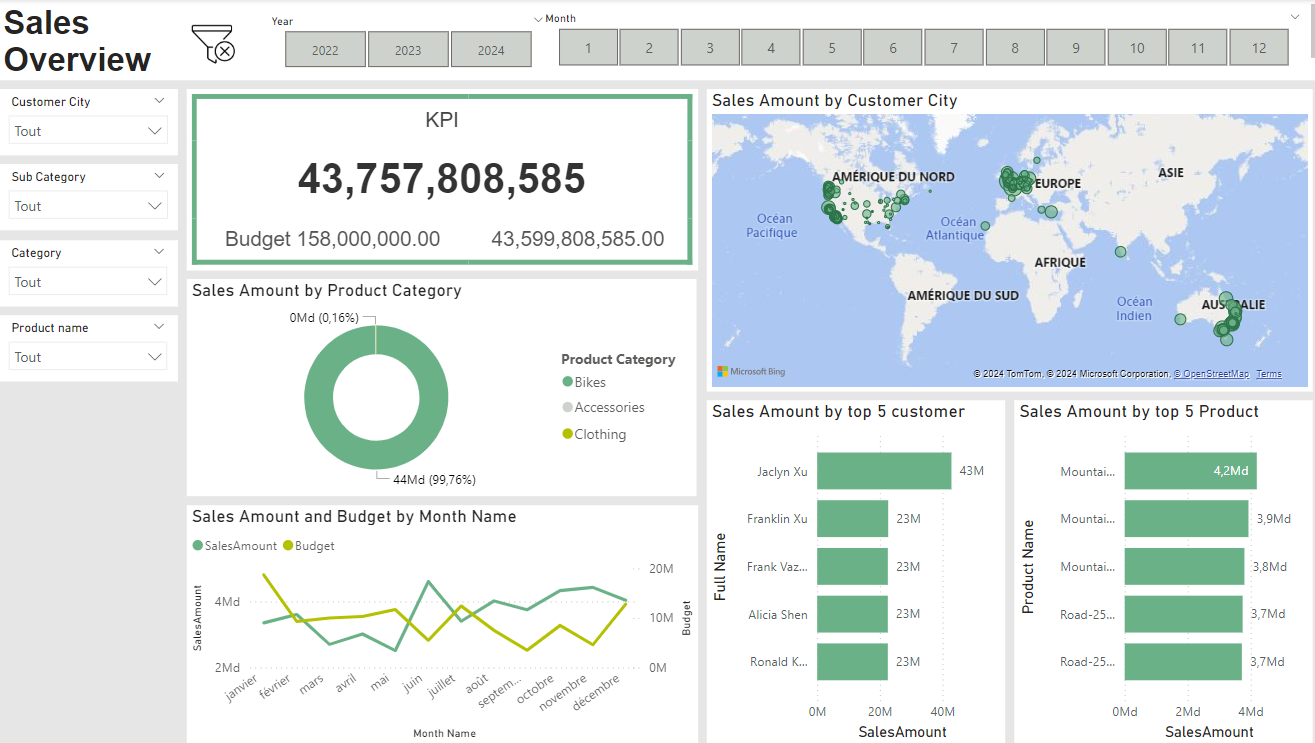

The dashboard page shown, as its layout file describes it:
{"tool":"powerbi","page":{"name":"Sales","canvas":[1280,720],"ordinal":0},"visuals":[{"type":"textbox","box":[0,0,1280.3,78.2],"z":0},{"type":"slicer","fields":{"Values":["DimCustomer.Customer City"]},"box":[0,86.9,173.7,63.9],"z":1000},{"type":"slicer","fields":{"Values":["DimProducts (2).Sub Category"]},"box":[0,159.3,173.7,63.9],"z":2000},{"type":"slicer","fields":{"Values":["DimProducts (2).Product Category"]},"box":[0,232.3,173.6,63.8],"z":3000},{"type":"slicer","fields":{"Values":["DimProducts (2).Product Name"]},"box":[0,305.1,173.6,63.8],"z":4000},{"type":"slicer","fields":{"Values":["DimDate.Year"]},"box":[251.1,9.6,288.2,63.1],"z":5000},{"type":"slicer","fields":{"Values":["DimDate.Month"]},"box":[515.7,7.7,754.4,63.8],"z":6000},{"type":"BBED0A4D4D8D44CE93CF2DAFADEE466C","title":"Sales, budget et Sales - Budget","fields":{"target2":["#Measures.Sales - Budget"],"actual":["#Measures.SalesAmount"],"target1":["#Measures.Budget"]},"box":[182.2,86.9,493.4,174.9],"z":7000},{"type":"donutChart","title":"Sales Amount by Product Category","fields":{"Category":["DimProducts (2).Product Category"],"Y":["#Measures.SalesAmount"]},"box":[182.2,270.2,492.2,209.9],"z":8000},{"type":"lineChart","title":"Sales Amount and Budget by Month Name","fields":{"Y":["#Measures.SalesAmount"],"Y2":["#Measures.Budget"],"Category":["DimDate.Month Name"]},"box":[182.2,488.4,493.4,231.6],"z":9000},{"type":"barChart","title":"Sales Amount by top 5 customer","fields":{"Y":["#Measures.SalesAmount"],"Category":["DimCustomer.Full Name"]},"box":[684.1,387,288.3,333],"z":10000},{"type":"barChart","title":"Sales Amount by top 5 Product ","fields":{"Category":["DimProducts (2).Product Name"],"Y":["#Measures.SalesAmount"]},"box":[980.8,387,288.3,333],"z":11000},{"type":"map","title":"Sales Amount by Customer City","fields":{"Category":["DimCustomer.Customer City"],"Size":["#Measures.SalesAmount"]},"box":[684.1,86.9,585.1,292],"z":12000},{"type":"image","box":[182.3,8.3,51.5,71],"z":13000}]}

Visuals, with their boxes in screenshot pixels (x1, y1, x2, y2), scaled from the page's 1280x720 canvas onto the 1315x743 screenshot:
textbox: 0, 0, 1314, 81
slicer - DimCustomer.Customer City: 0, 90, 178, 156
slicer - DimProducts (2).Sub Category: 0, 164, 178, 230
slicer - DimProducts (2).Product Category: 0, 240, 178, 306
slicer - DimProducts (2).Product Name: 0, 315, 178, 381
slicer - DimDate.Year: 258, 10, 554, 75
slicer - DimDate.Month: 530, 8, 1305, 74
"Sales, budget et Sales - Budget" BBED0A4D4D8D44CE93CF2DAFADEE466C: 187, 90, 694, 270
"Sales Amount by Product Category" donutChart: 187, 279, 693, 495
"Sales Amount and Budget by Month Name" lineChart: 187, 504, 694, 742
"Sales Amount by top 5 customer" barChart: 703, 399, 999, 742
"Sales Amount by top 5 Product " barChart: 1008, 399, 1304, 742
"Sales Amount by Customer City" map: 703, 90, 1304, 391
image: 187, 9, 240, 82
